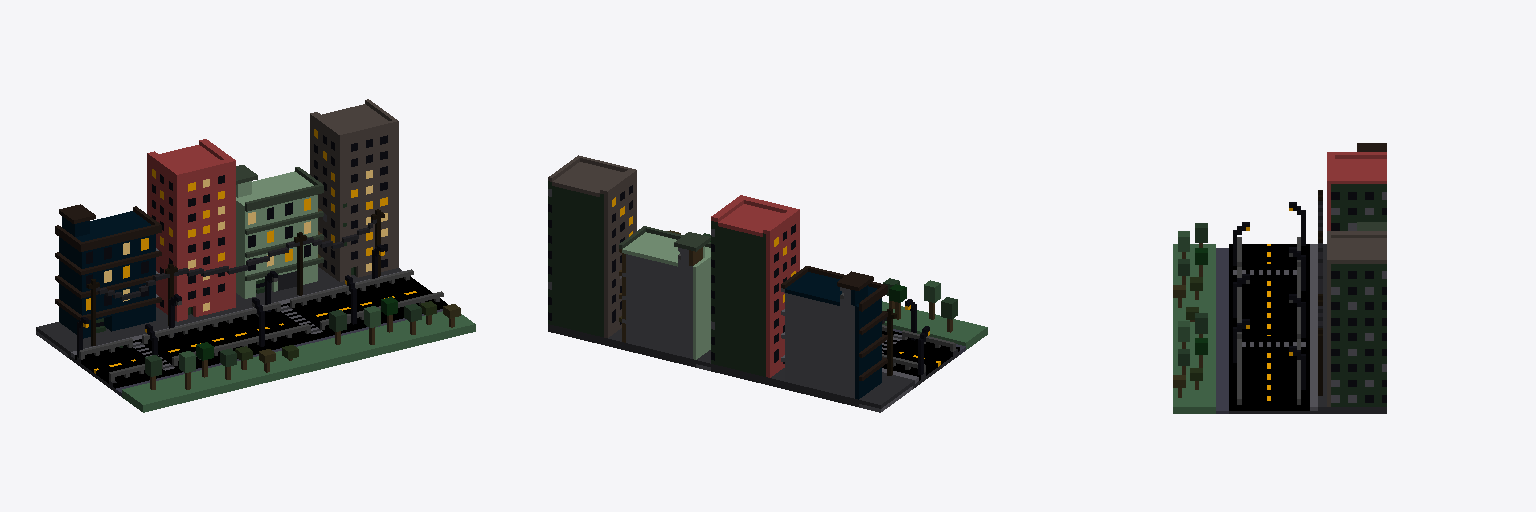
3 renders of one model, left to right at view 1: azimuth 30°, elevation 25°; view 2: azimuth 150°, elevation 25°; view 3: azimuth 270°, elevation 25°, orthographic.
Visible parts, largest first — view 1: object 1; view 2: object 1; view 3: object 1.
Boxes of the visible parts, x1,y1,x2,y2 form: object 1: [36, 99, 475, 412]; object 1: [548, 155, 987, 412]; object 1: [1173, 143, 1386, 413].
Size of the model in its own units: 9 by 4 by 5.
1 materials, 1 textured.